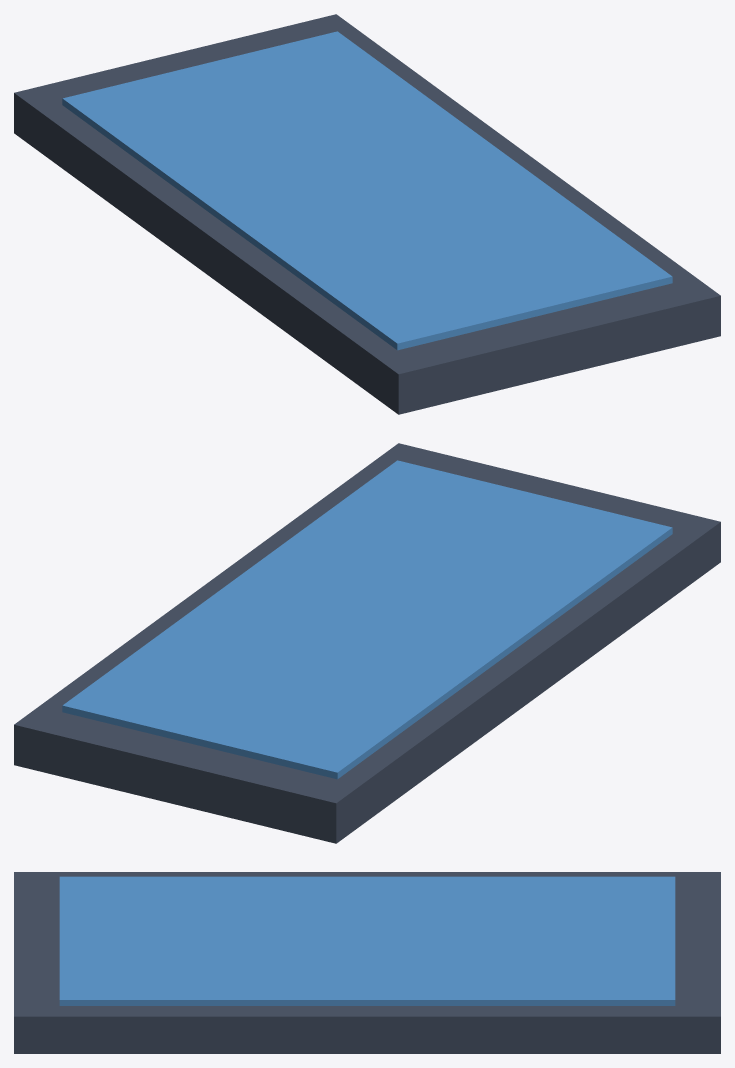
Rendered from phone.glb.
3 views of the same model, one above another, from view 1: azimuth 30°, elevation 25°; view 2: azimuth 150°, elevation 25°; view 3: azimuth 270°, elevation 25° (orthographic). The views are drawn at different scales.
Visible parts, largest first — view 1: prop_phone; view 2: prop_phone; view 3: prop_phone.
Boxes of the visible parts, x1,y1,x2,y2 form: prop_phone: (14, 14, 720, 414); prop_phone: (14, 443, 720, 843); prop_phone: (14, 872, 720, 1053).
Bounding box in the file's own units: 0.075 × 0.0125 × 0.155.
